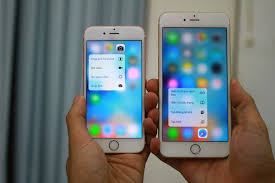iphone: (156, 8, 233, 160), (81, 23, 147, 153)
iphone6: (155, 9, 232, 161), (81, 23, 147, 153)
